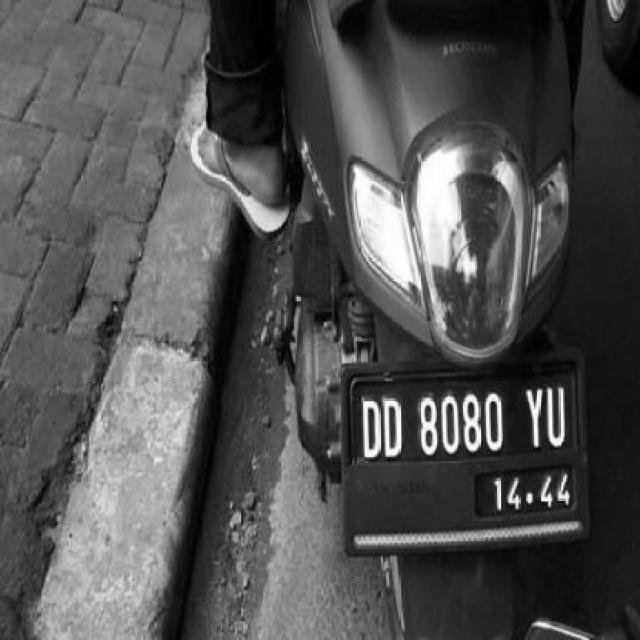0: (482, 388, 504, 460), (441, 392, 462, 459)
8: (417, 393, 439, 458), (462, 395, 482, 458)
D: (382, 394, 404, 461), (360, 399, 383, 463)
U: (545, 381, 566, 458)
Y: (524, 383, 546, 460)
